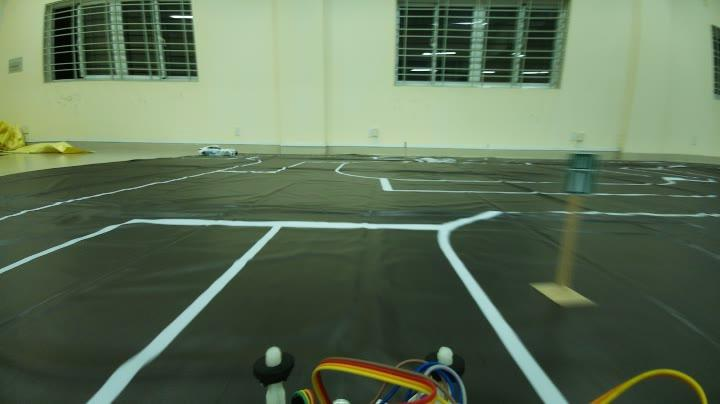highway_entry: (564, 149, 602, 205)
